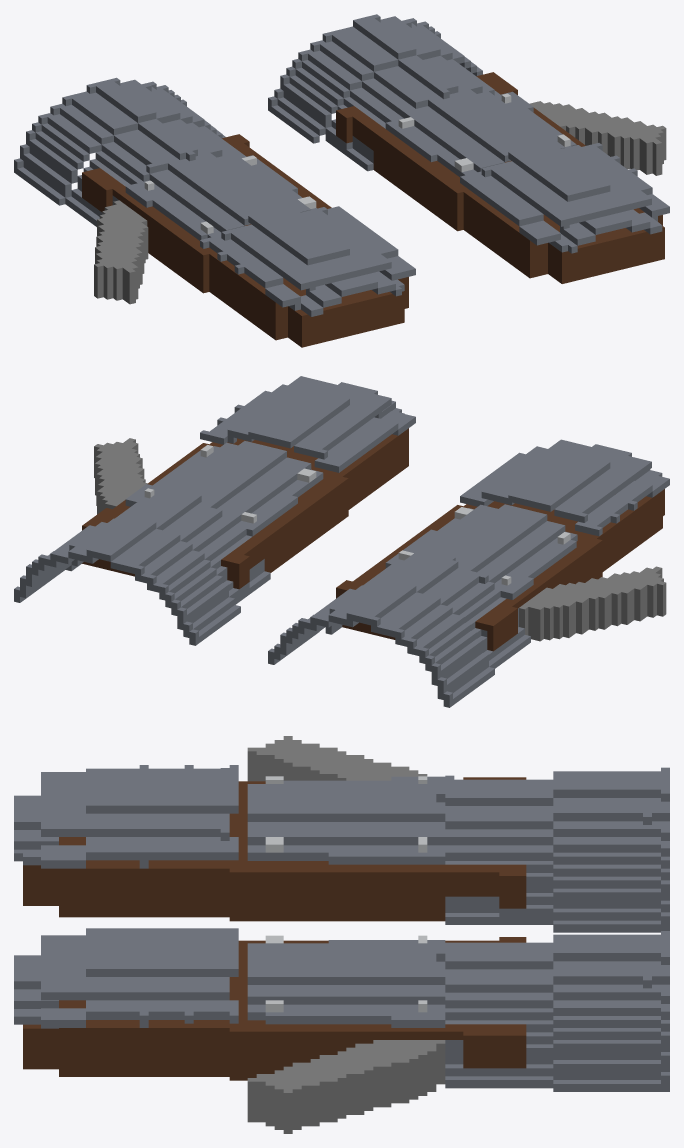
Rendered from ch_mitten_gaunt.glb.
3 renders of one model, top to bottom at view 1: azimuth 30°, elevation 25°; view 2: azimuth 150°, elevation 25°; view 3: azimuth 270°, elevation 25°, orthographic. The views are drawn at different scales.
Parts seen in each view (by area): view 1: ch_mitten_gaunt:compound; view 2: ch_mitten_gaunt:compound; view 3: ch_mitten_gaunt:compound.
Boxes of the visible parts, bbox=[...] form: ch_mitten_gaunt:compound: bbox=[14, 14, 669, 347]; ch_mitten_gaunt:compound: bbox=[14, 376, 669, 707]; ch_mitten_gaunt:compound: bbox=[14, 736, 669, 1133].
Size of the model in its own units: 0.376 by 0.044 by 0.292.
